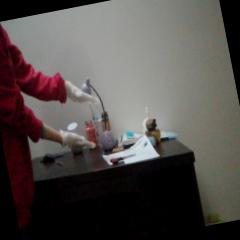gloved: (60, 124, 96, 156), (64, 75, 99, 107)
